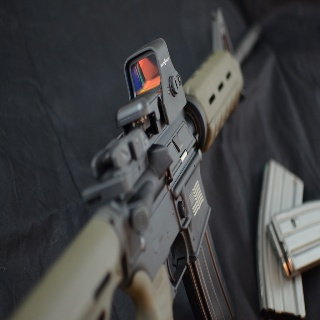rifle: (11, 11, 262, 320)
